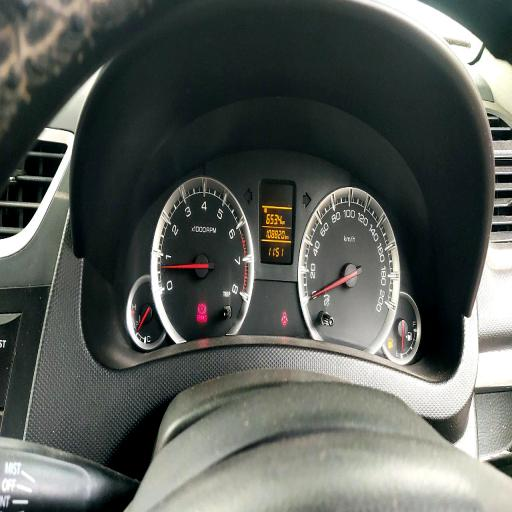brake_system_fault: (198, 303, 206, 315)
tachometer: (151, 176, 254, 346)
